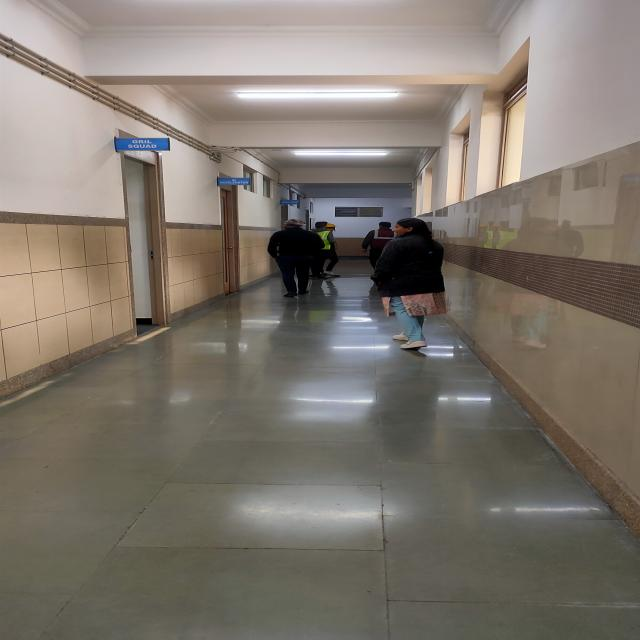unsafe: (373, 219, 448, 352), (269, 220, 322, 300), (365, 223, 396, 274), (316, 220, 343, 278)
